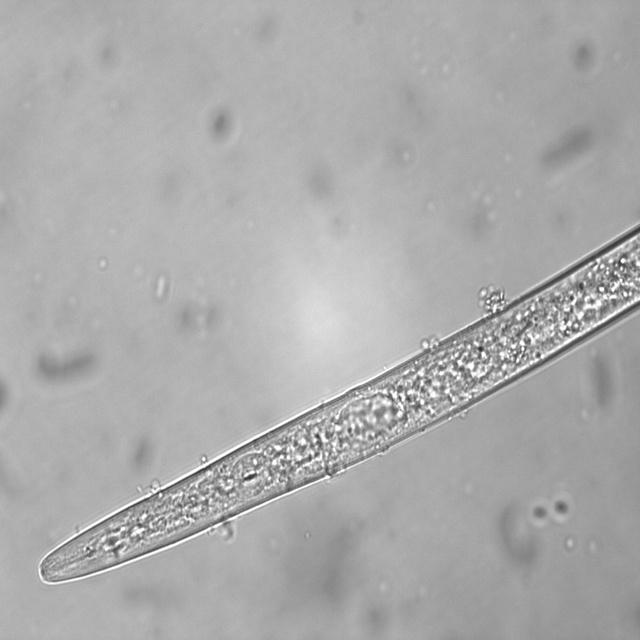Meloidogyne: (29, 226, 640, 591)
